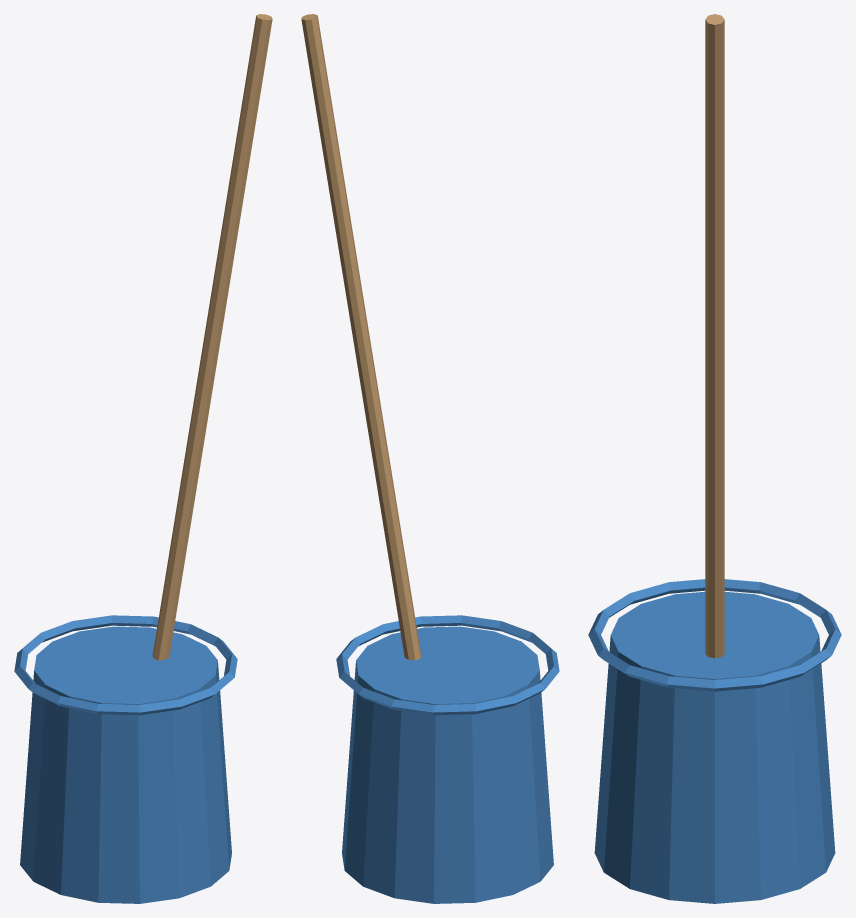
Rendered from bucket_mop.fbx.
3 views of the same model, side by side, from view 1: azimuth 30°, elevation 25°; view 2: azimuth 150°, elevation 25°; view 3: azimuth 270°, elevation 25° (orthographic). The views are drawn at different scales.
Parts seen in each view (by area): view 1: bucket_mop; view 2: bucket_mop; view 3: bucket_mop.
Boxes of the visible parts, x1,y1,x2,y2 form: bucket_mop: [14, 14, 272, 903]; bucket_mop: [301, 14, 559, 903]; bucket_mop: [588, 14, 841, 903].
Size of the model in its own units: 0.394 by 1.25 by 0.316.
